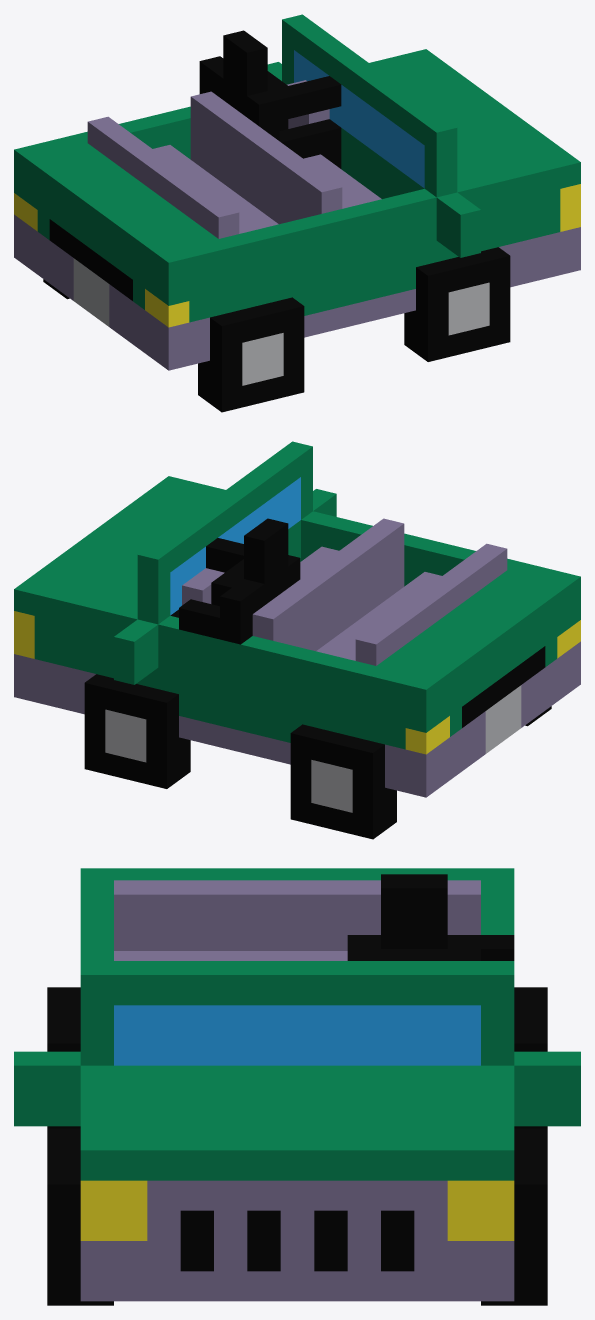
Rendered from convertible_b.obj.
The picture shows the model from 3 angles, top to bottom: view 1: azimuth 30°, elevation 25°; view 2: azimuth 150°, elevation 25°; view 3: azimuth 270°, elevation 25°; orthographic projection. The views are drawn at different scales.
Bounding box in the file's own units: 2 × 1.1 × 1.7.
1 material, 1 textured.
